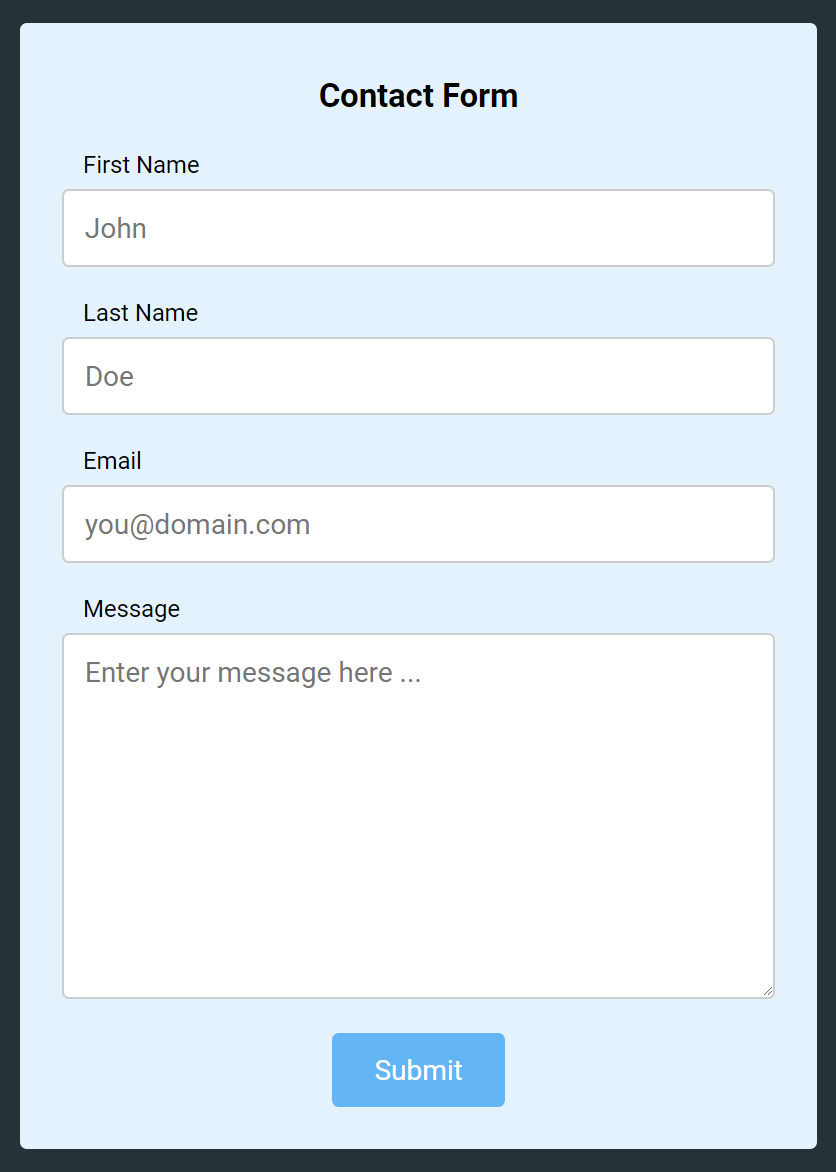_form_: (48, 586, 795, 1151), (48, 133, 799, 580)
button: (328, 1031, 507, 1111)
field: (61, 631, 779, 1001), (61, 336, 778, 418), (59, 187, 778, 268), (60, 485, 775, 566)
field_with_label: (58, 595, 785, 1006), (55, 150, 784, 271), (58, 300, 782, 421), (58, 450, 780, 569)
